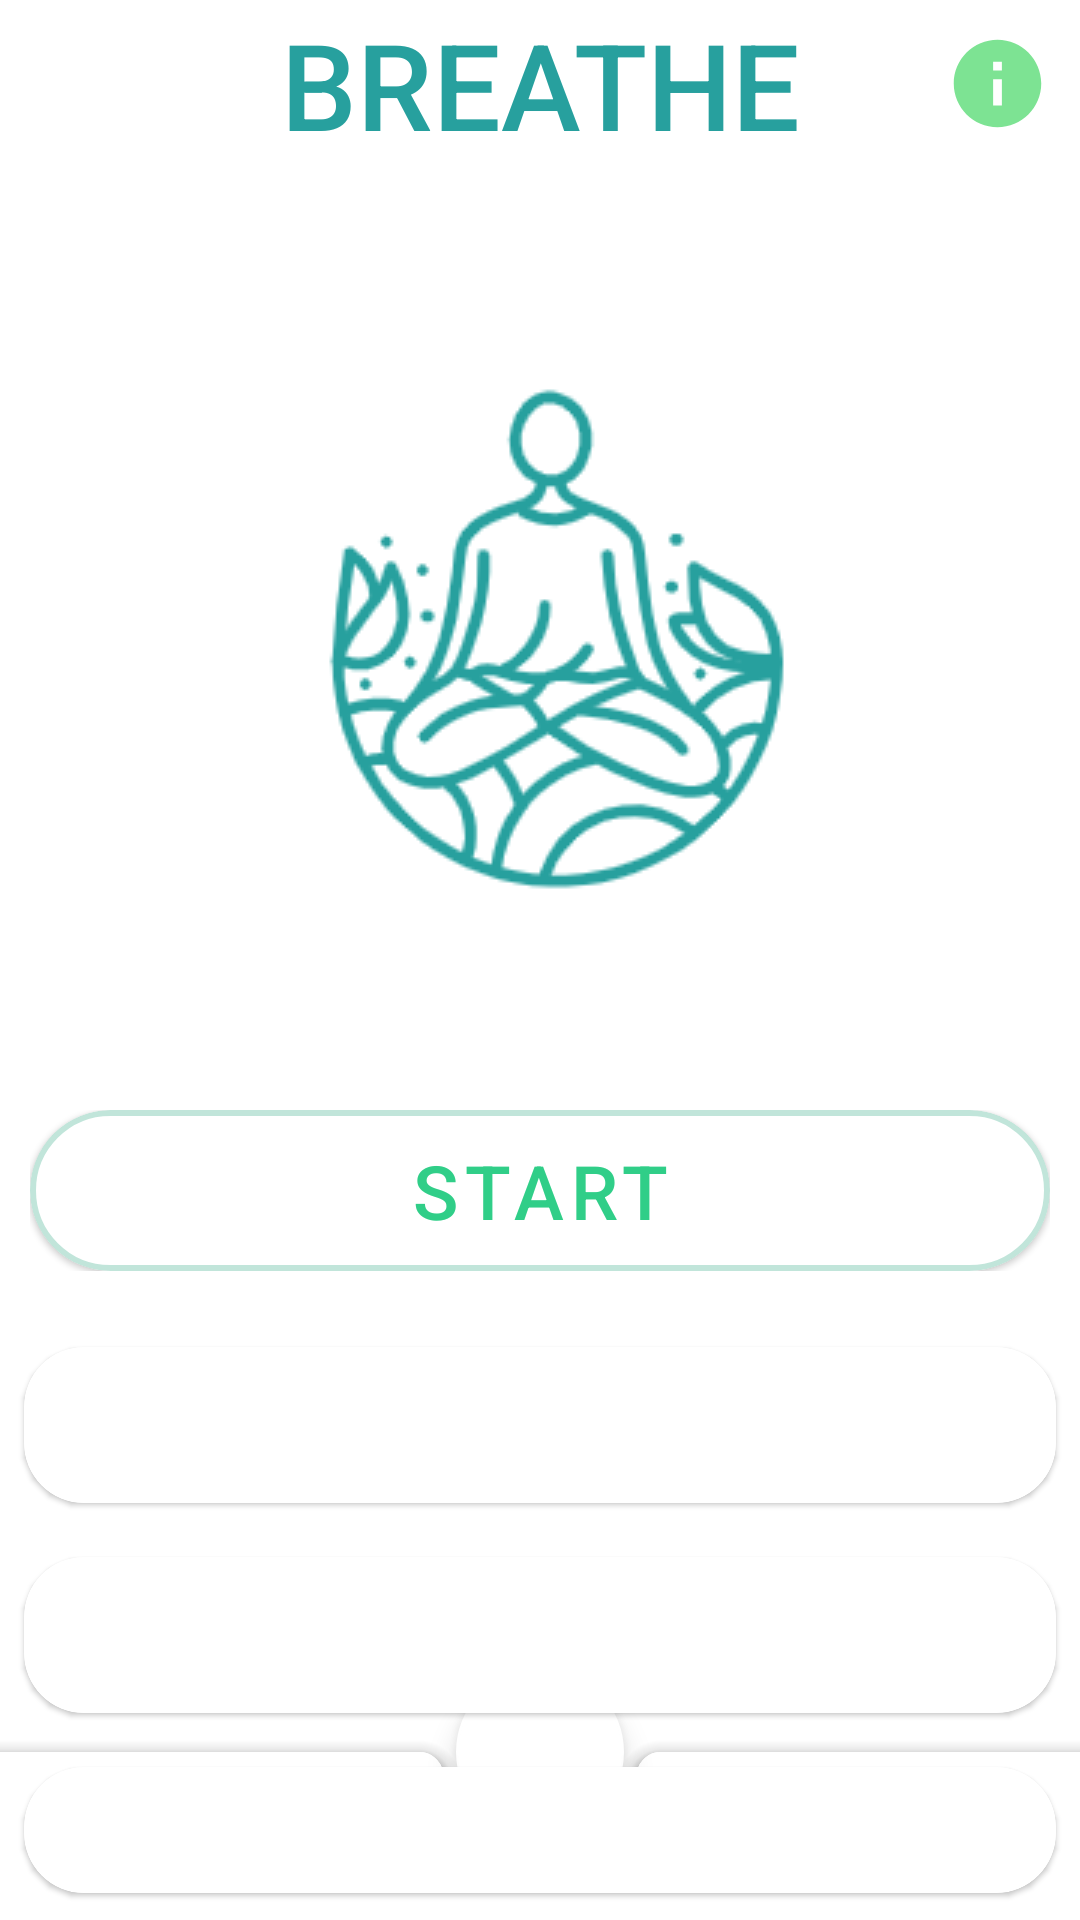

Locate icon controls on the screen. Image size 1080×1920, boxes as (x1, y1, x2, y2).
info: (953, 39, 1042, 128)
